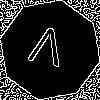V: (25, 25, 68, 76)
